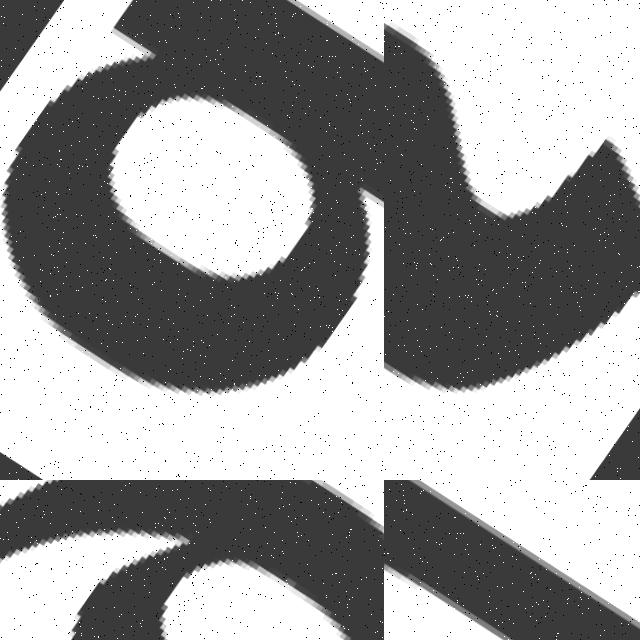6: (0, 480, 384, 640)
N: (384, 480, 640, 640)
P: (4, 0, 384, 401)
S: (384, 0, 640, 480)
